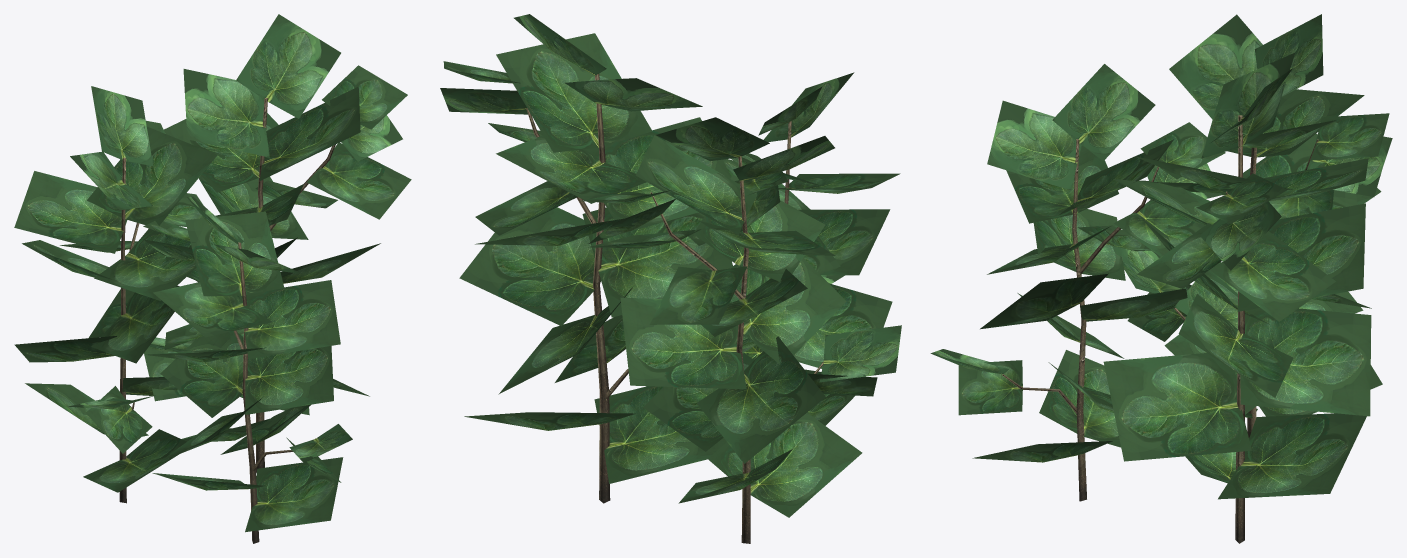
The model's file is Ficus Carica.FBX.
3 views of the same model, side by side, from view 1: azimuth 30°, elevation 25°; view 2: azimuth 150°, elevation 25°; view 3: azimuth 270°, elevation 25° (orthographic). The views are drawn at different scales.
Visible parts, largest first — view 1: ficus carica02, ficus carica01, ficus carica03; view 2: ficus carica01, ficus carica03, ficus carica02; view 3: ficus carica03, ficus carica02, ficus carica01.
Part boxes in pixels (x1=…): ficus carica02: x1=143, y1=196, x2=352, y2=543; ficus carica01: x1=14, y1=86, x2=217, y2=503; ficus carica03: x1=144, y1=14, x2=411, y2=472; ficus carica01: x1=581, y1=117, x2=901, y2=543; ficus carica03: x1=440, y1=14, x2=755, y2=503; ficus carica02: x1=688, y1=72, x2=900, y2=425; ficus carica03: x1=1103, y1=52, x2=1371, y2=543; ficus carica02: x1=930, y1=64, x2=1225, y2=501; ficus carica01: x1=1121, y1=14, x2=1392, y2=437.
Bounding box in the file's own units: 80.62 × 90.55 × 76.35.
